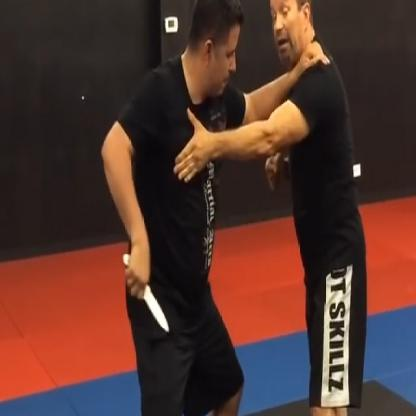knife: (117, 244, 174, 344)
